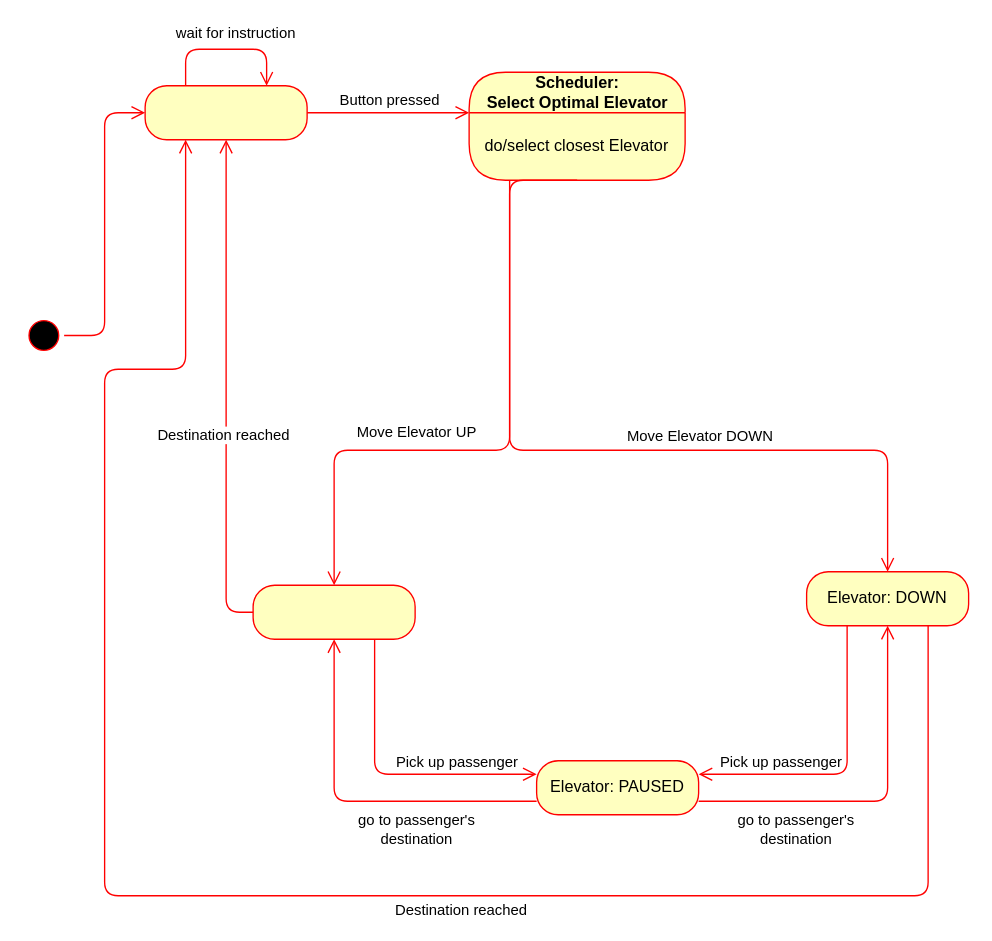
The diagram is 992 pixels wide and 941 high, and some of its shapes have lost their labels. The shapes that lost their labels are listed below. From the top down, each one's centre as x and y in pixels, then its label:
At [225,112]: "Elevator: STOPPED".
At [333,611]: "Elevator: UP".
